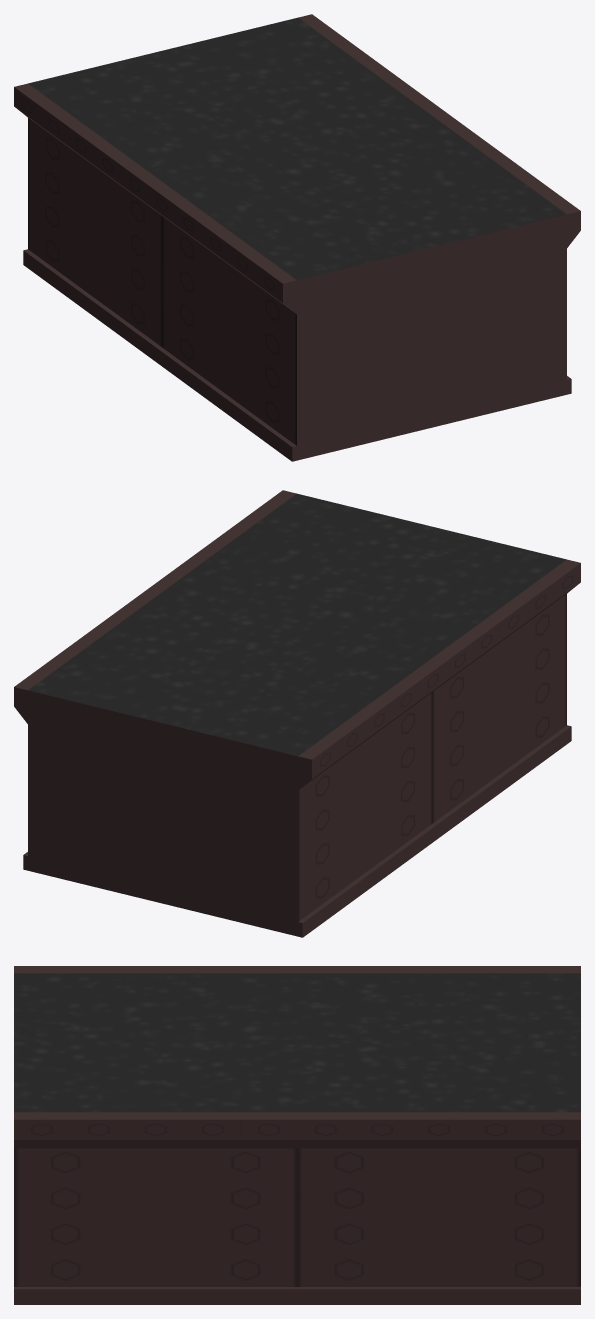
The model's file is SW_ENV_EL_TrackBase_5m.fbx.
3 views of the same model, one above another, from view 1: azimuth 30°, elevation 25°; view 2: azimuth 150°, elevation 25°; view 3: azimuth 270°, elevation 25° (orthographic). The views are drawn at different scales.
Visible parts, largest first — view 1: SW_ENV_EL_TrackBase_5m; view 2: SW_ENV_EL_TrackBase_5m; view 3: SW_ENV_EL_TrackBase_5m.
Part boxes in pixels (x1=…): SW_ENV_EL_TrackBase_5m: x1=14, y1=14, x2=580, y2=461; SW_ENV_EL_TrackBase_5m: x1=14, y1=490, x2=580, y2=937; SW_ENV_EL_TrackBase_5m: x1=14, y1=966, x2=580, y2=1304.
Bounding box in the file's own units: 320 × 185 × 500.
